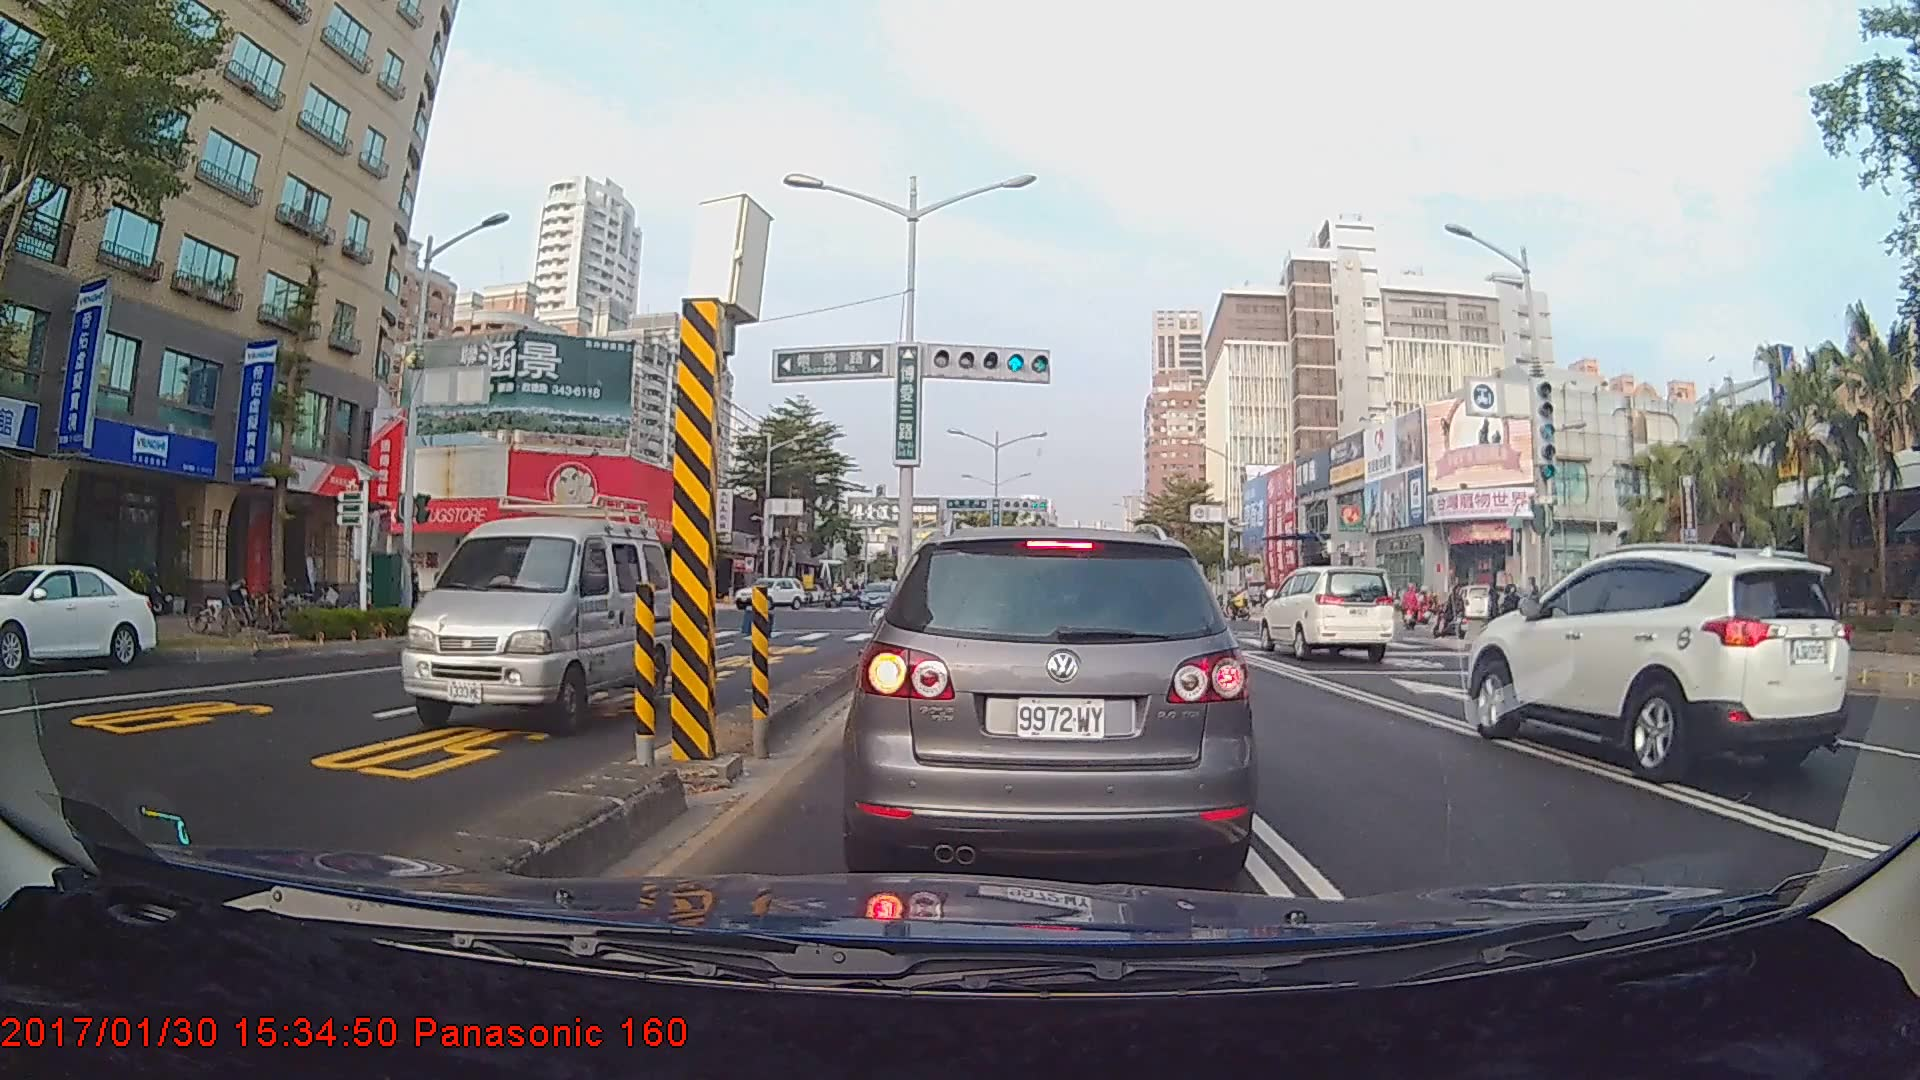rider: (1436, 582, 1473, 646), (1395, 580, 1420, 638)
vehicle: (853, 520, 1252, 878), (1466, 541, 1851, 781), (398, 493, 684, 734), (0, 561, 157, 671), (1256, 564, 1396, 662), (858, 579, 898, 610)
